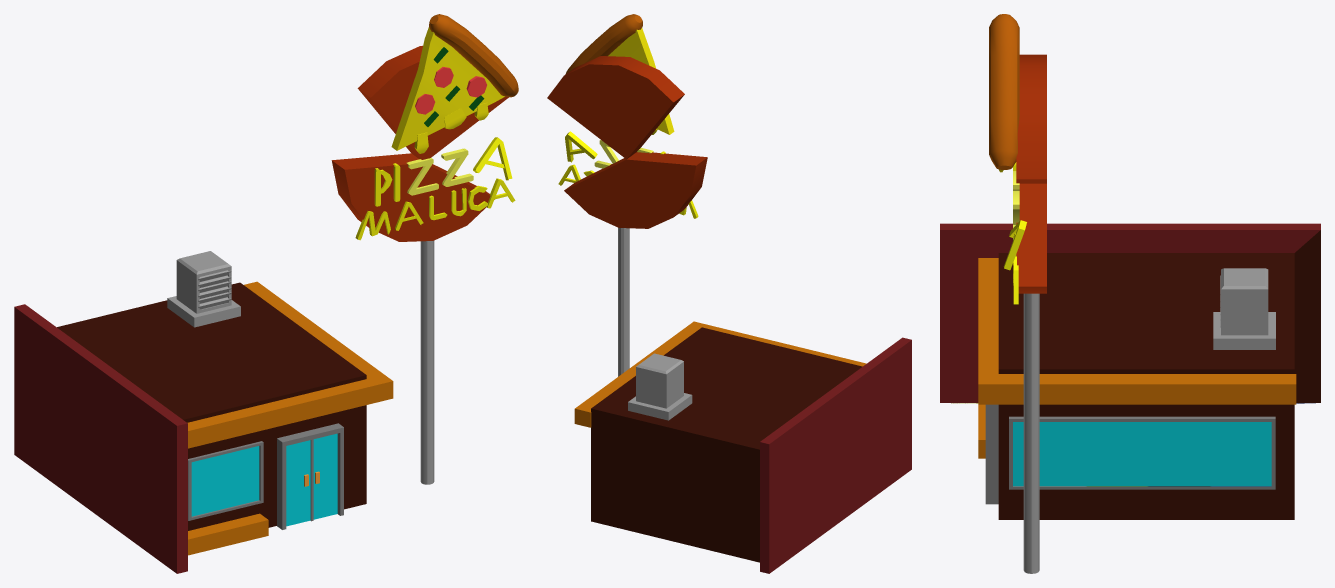
Rendered from PizzaMalucaLOD0.fbx.
3 renders of one model, left to right at view 1: azimuth 30°, elevation 25°; view 2: azimuth 150°, elevation 25°; view 3: azimuth 270°, elevation 25°, orthographic. The views are drawn at different scales.
Parts seen in each view (by area): view 1: PizzariaLOD0, PizzonaLOD0, LogoLOD0; view 2: PizzariaLOD0, PizzonaLOD0, LogoLOD0; view 3: PizzariaLOD0, PizzonaLOD0, LogoLOD0.
Part boxes in pixels (x1,y1,x2,y2): PizzariaLOD0: (14, 45, 508, 573); PizzonaLOD0: (391, 14, 518, 153); LogoLOD0: (355, 137, 515, 240); PizzariaLOD0: (547, 56, 911, 573); PizzonaLOD0: (565, 14, 674, 134); LogoLOD0: (558, 131, 698, 218); PizzariaLOD0: (940, 54, 1320, 573); PizzonaLOD0: (989, 14, 1019, 172); LogoLOD0: (1003, 162, 1026, 304).
Bounding box in the file's own units: 938 × 1149 × 714.
Materials: 1 (1 with a texture image).
